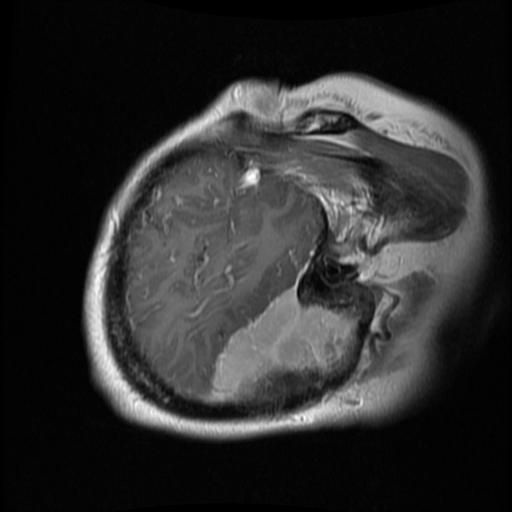meningioma: (204, 284, 360, 406)
